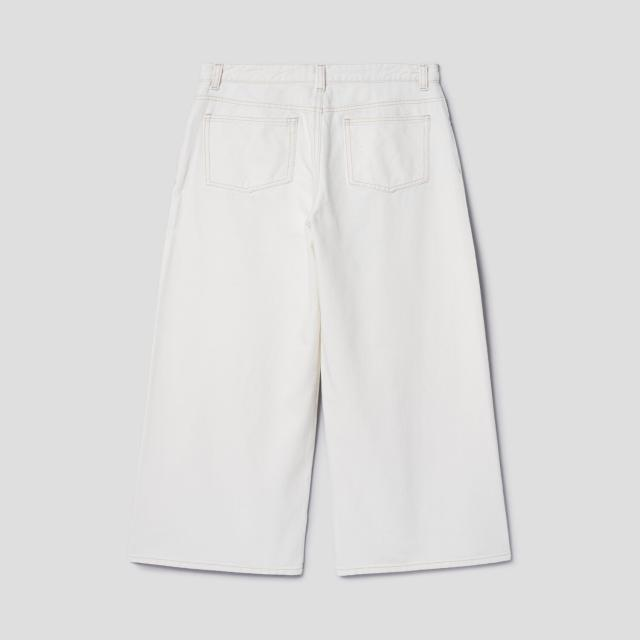long-pants: (124, 61, 519, 587)
